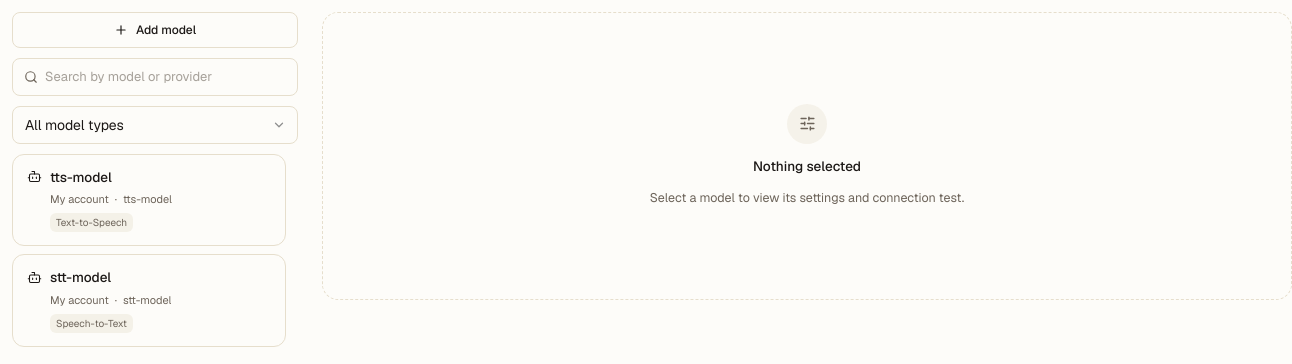
voice only lists and creates its own model types
Click the button "Add model" at [155, 30], box [12,12,298,48]
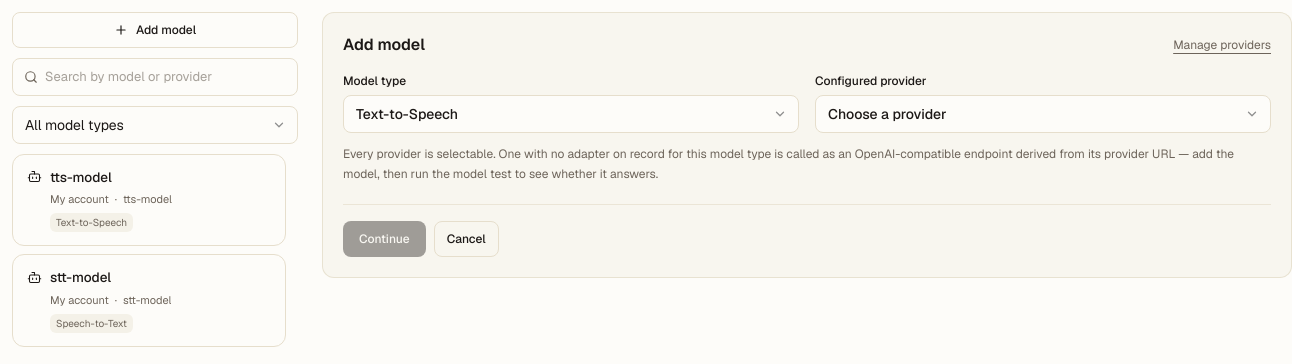
Check: the dropdown labelled "Model type" shows "Text-to-Speech", box [343,95,799,133]
